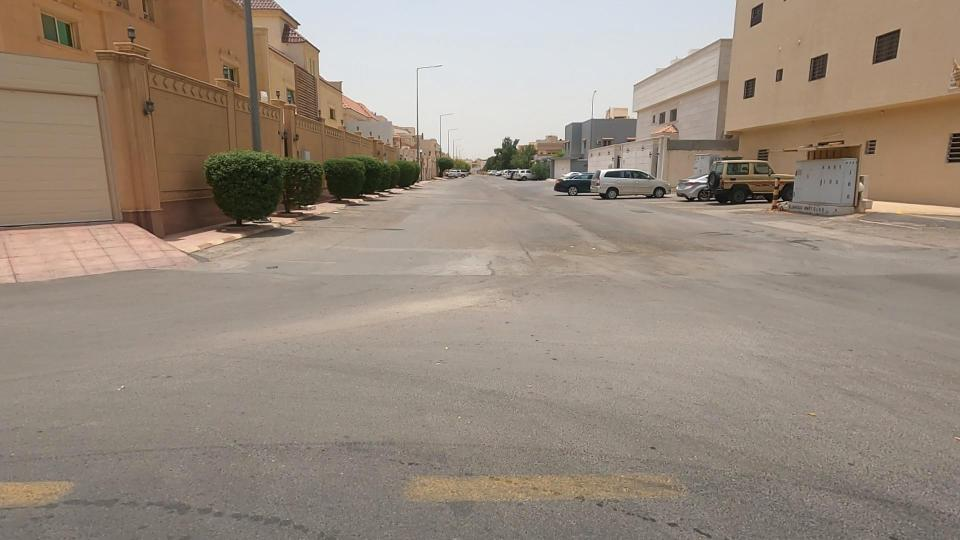POTHOLES: (480, 207, 600, 312), (563, 202, 688, 279)
